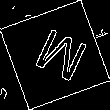M_SW: (23, 22, 87, 88)
